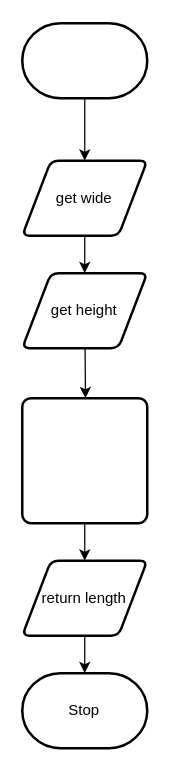
Image size: 170x770. Some labels were removed from this diagram. Here are the shapes that lost their labels. From the top down, the centre of each, then its label:
At (84,60): "Start".
At (84,460): "length = area / (width * height)".
